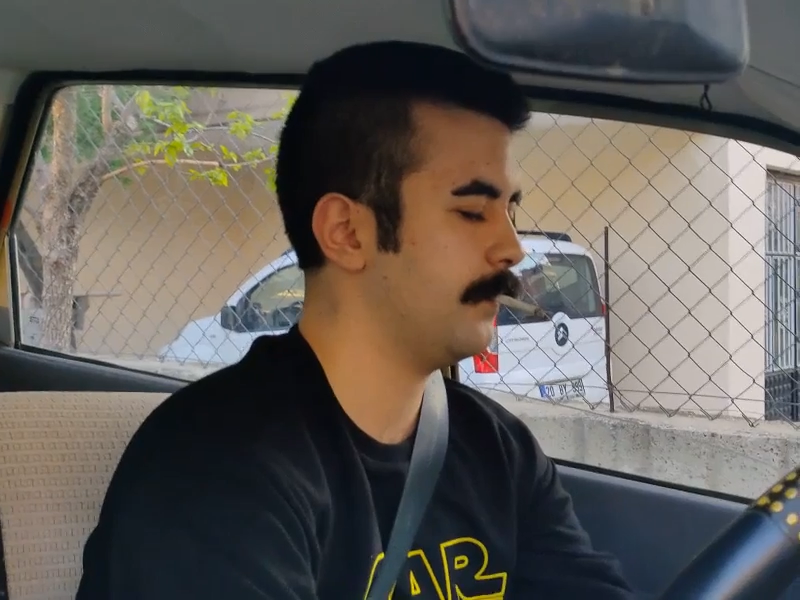sigara: (492, 292, 547, 319)
